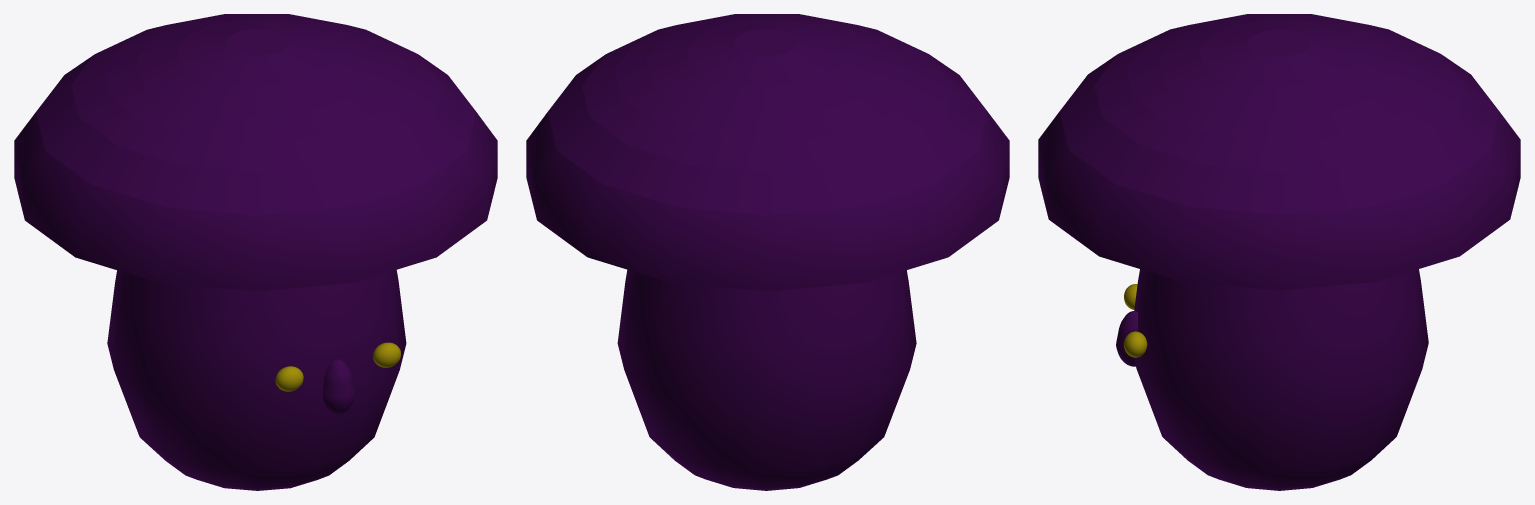
Rendered from Mushroom2.fbx.
3 renders of one model, left to right at view 1: azimuth 30°, elevation 25°; view 2: azimuth 150°, elevation 25°; view 3: azimuth 270°, elevation 25°, orthographic.
Visible parts, largest first — view 1: Mushroom3; view 2: Mushroom3; view 3: Mushroom3.
Part boxes in pixels (bbox=[...]): Mushroom3: bbox=[14, 14, 497, 490]; Mushroom3: bbox=[526, 14, 1009, 490]; Mushroom3: bbox=[1038, 14, 1520, 490].
Bounding box in the file's own units: 2 × 1.91 × 2.02.
